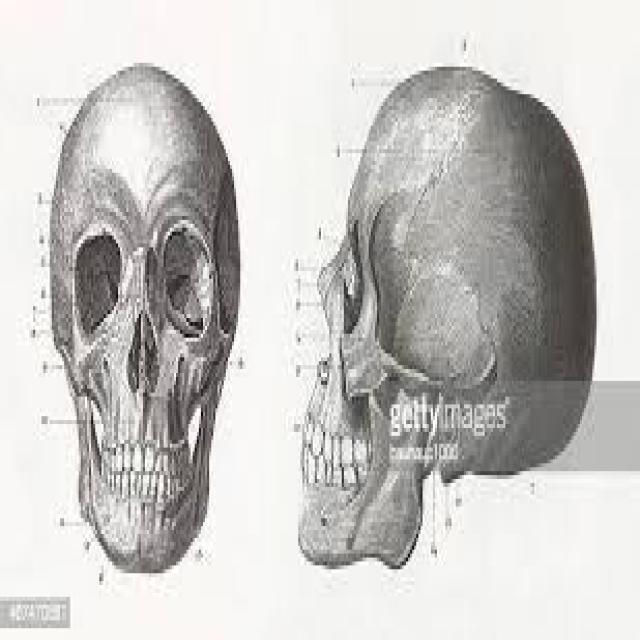skull: (280, 79, 604, 596), (37, 59, 250, 593)
